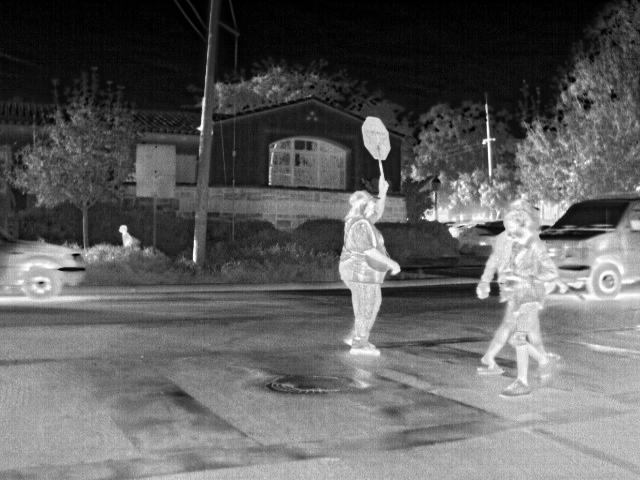car: (555, 195, 640, 299), (1, 229, 88, 301), (471, 223, 491, 244), (449, 220, 475, 236)
person: (337, 189, 394, 358), (505, 209, 550, 397), (492, 206, 526, 374), (118, 223, 138, 248)
